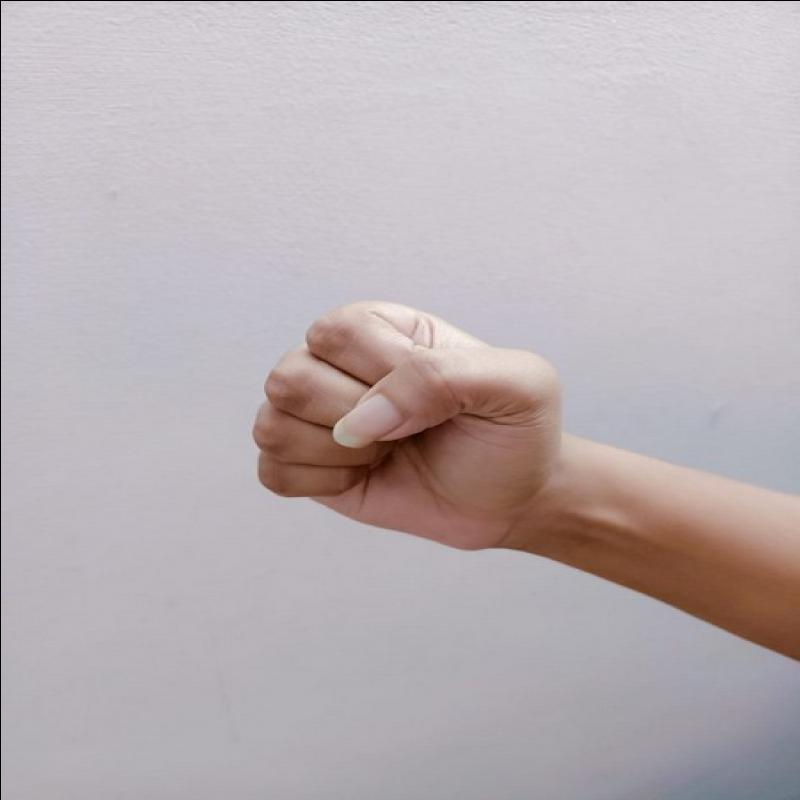Mushti: (243, 294, 582, 567)
